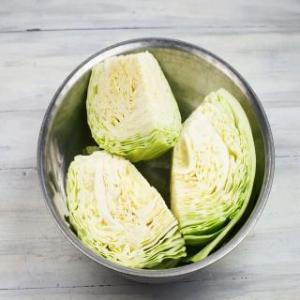cabbage: (67, 146, 190, 276), (167, 87, 257, 264), (86, 50, 184, 164)
